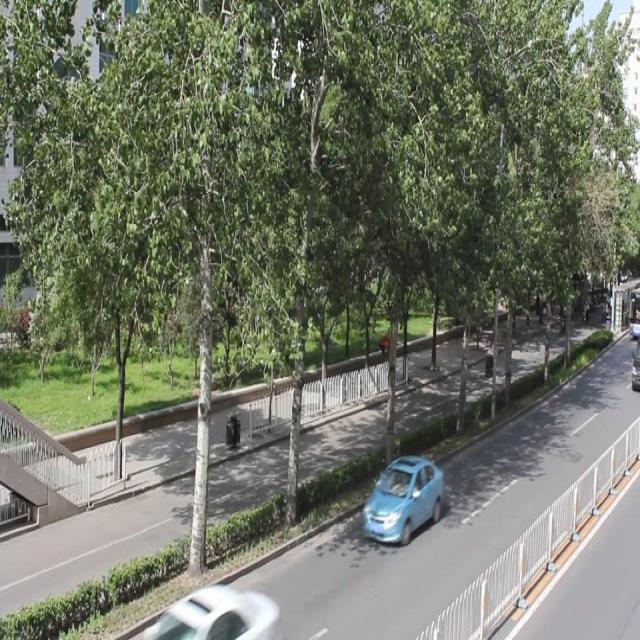car: (146, 582, 277, 640), (362, 454, 442, 545)
